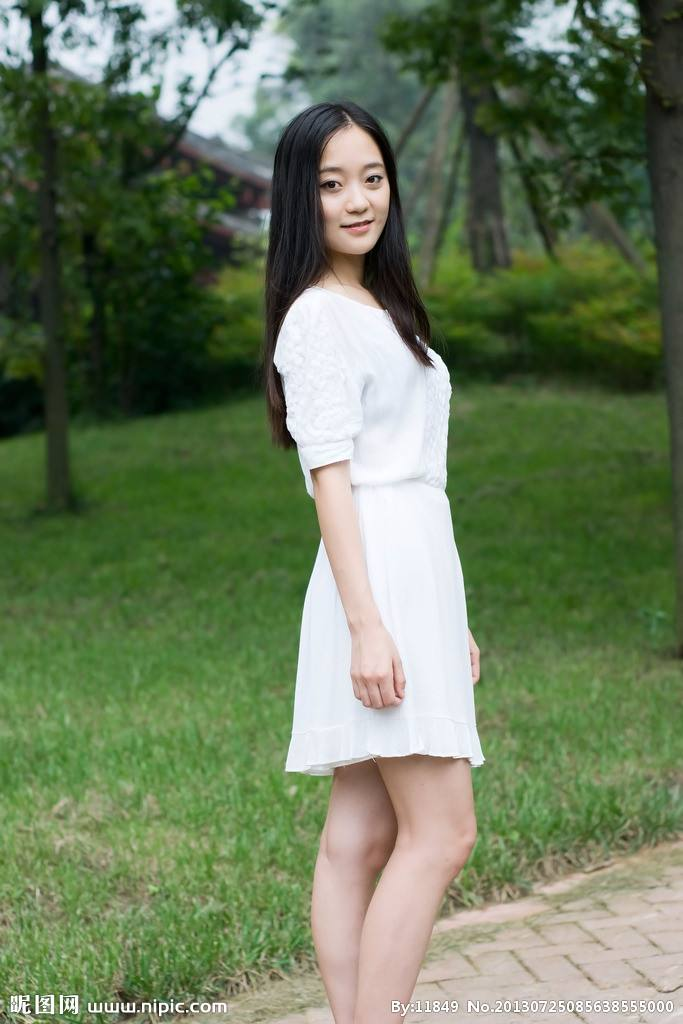person: (218, 92, 611, 1003)
